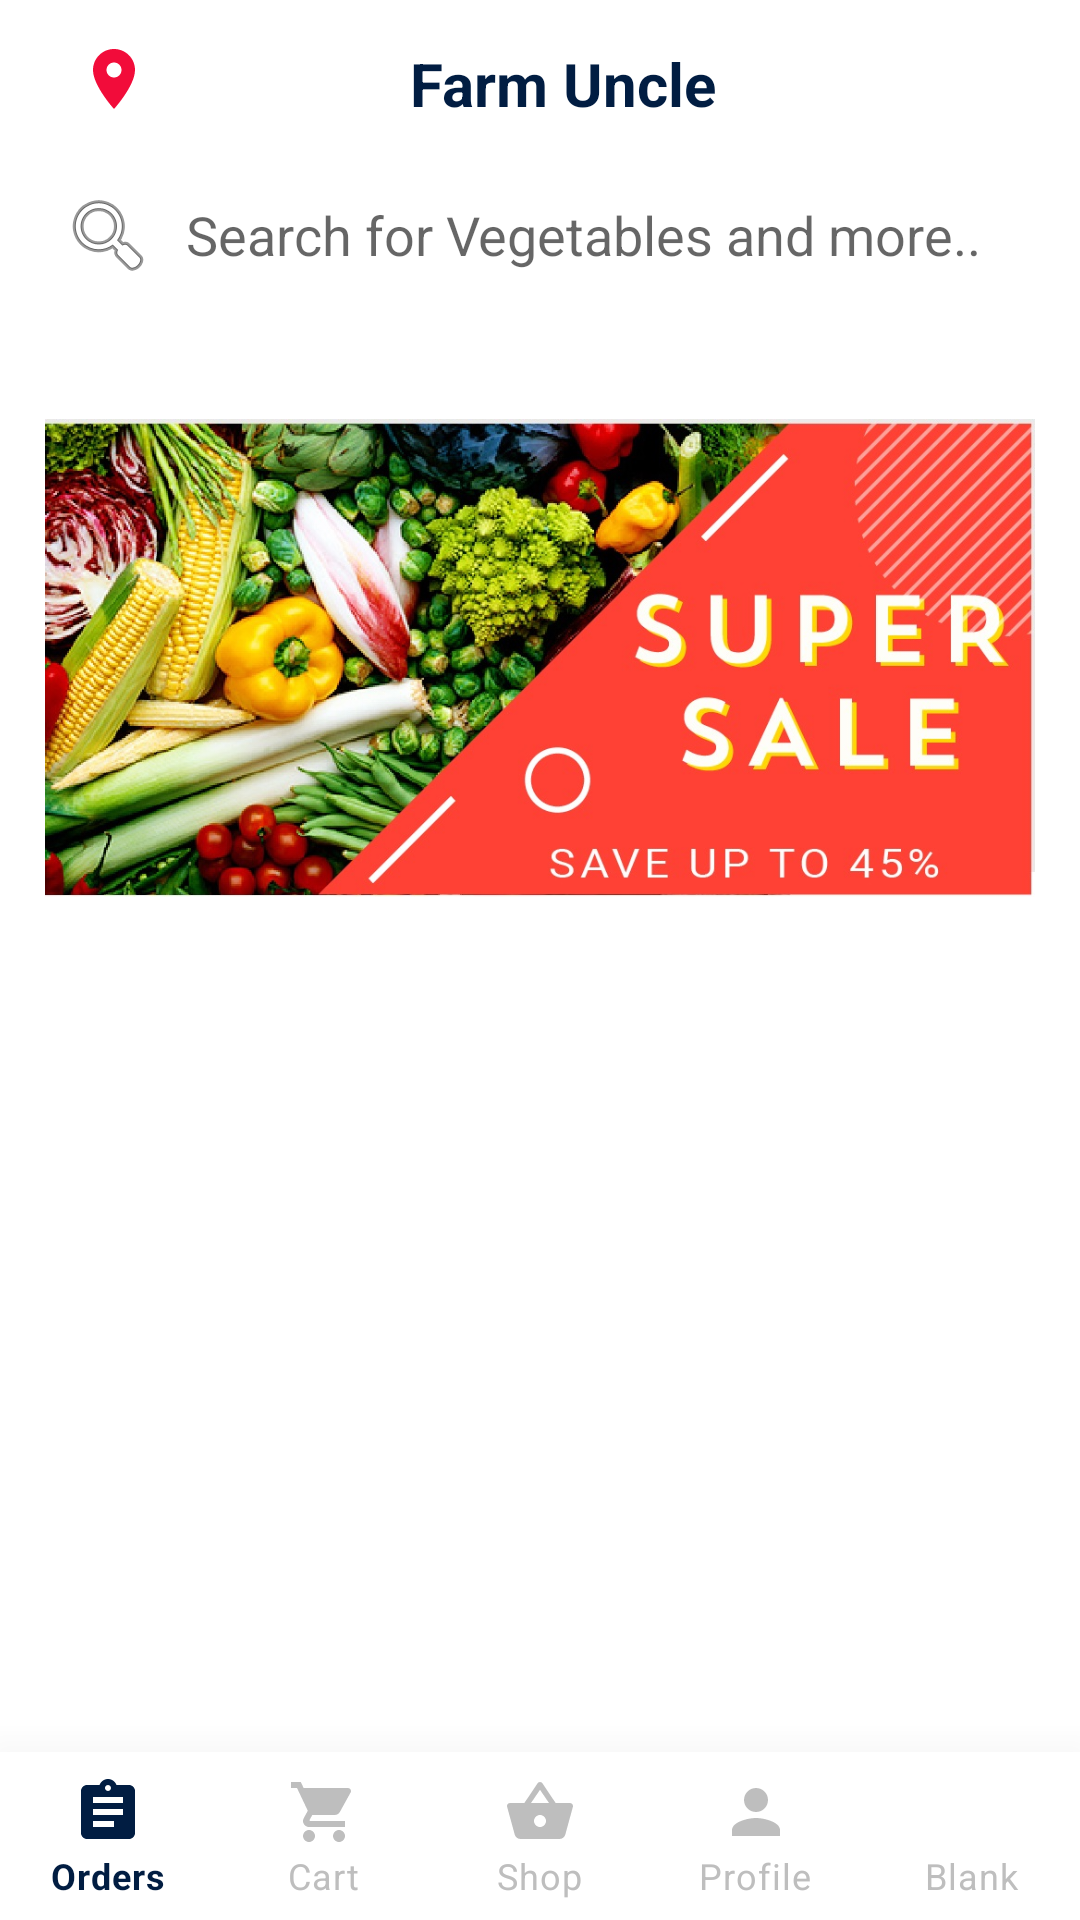

Icons on this 1080 x 1920 Android screen, each with its box as bbox=(x1, y1, x2, y2):
location: bbox=(93, 49, 135, 109)
